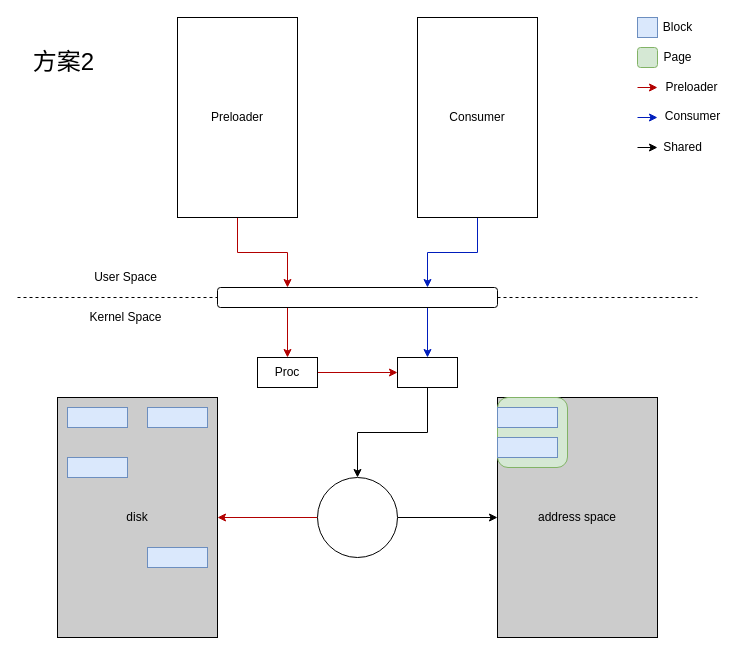
This 745x655 diagram has some shape labels left out. The shapes that lost their labels are listed below. From the top down, each one's centre as x and y in pixels, then its label:
At (x=357, y=297): "system call".
At (x=427, y=372): "VFS".
At (x=357, y=517): "inode".
